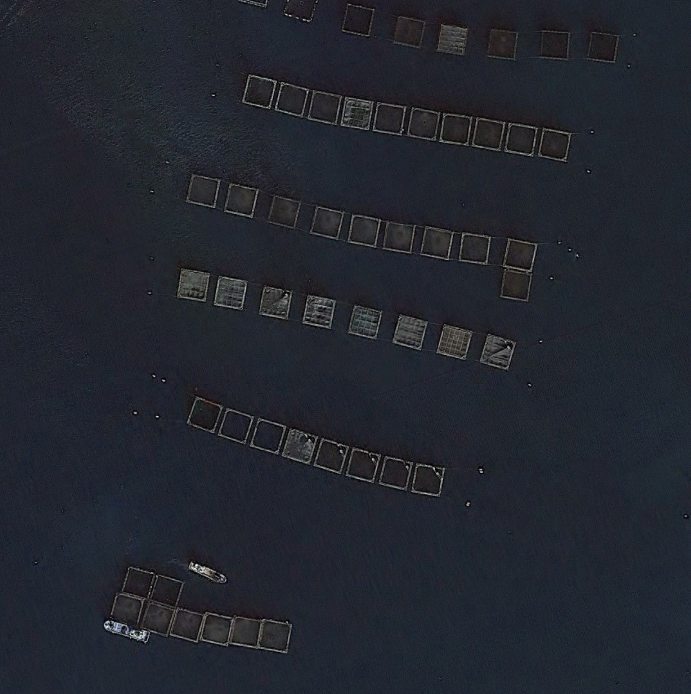ship: (179, 552, 235, 588), (99, 619, 153, 648)
square: (180, 387, 235, 446), (339, 300, 388, 354), (384, 308, 433, 362), (430, 320, 479, 373), (416, 213, 460, 270), (280, 425, 326, 479), (210, 269, 255, 324), (252, 283, 301, 333), (100, 585, 148, 634), (478, 330, 525, 380), (173, 260, 219, 311), (183, 164, 228, 216), (197, 603, 242, 655), (305, 201, 352, 250), (115, 557, 162, 606), (342, 445, 389, 493), (296, 290, 340, 341), (137, 593, 181, 644), (316, 434, 357, 488), (260, 191, 307, 238), (499, 229, 543, 278), (248, 415, 292, 463), (531, 125, 580, 168), (239, 70, 285, 115), (377, 455, 423, 500), (218, 399, 257, 452), (221, 180, 265, 226), (227, 608, 266, 658), (495, 262, 539, 306), (502, 117, 542, 165), (470, 109, 512, 154), (269, 81, 312, 124), (337, 1, 379, 44), (531, 24, 575, 65), (486, 21, 527, 65), (454, 225, 495, 269), (371, 99, 413, 141), (584, 27, 627, 68), (335, 94, 375, 136), (411, 463, 453, 503), (302, 88, 346, 126), (174, 608, 212, 652), (257, 618, 298, 658), (347, 213, 387, 253), (150, 573, 189, 613), (383, 221, 420, 263), (408, 108, 443, 146), (397, 13, 432, 50), (441, 18, 471, 61), (440, 114, 475, 150)
